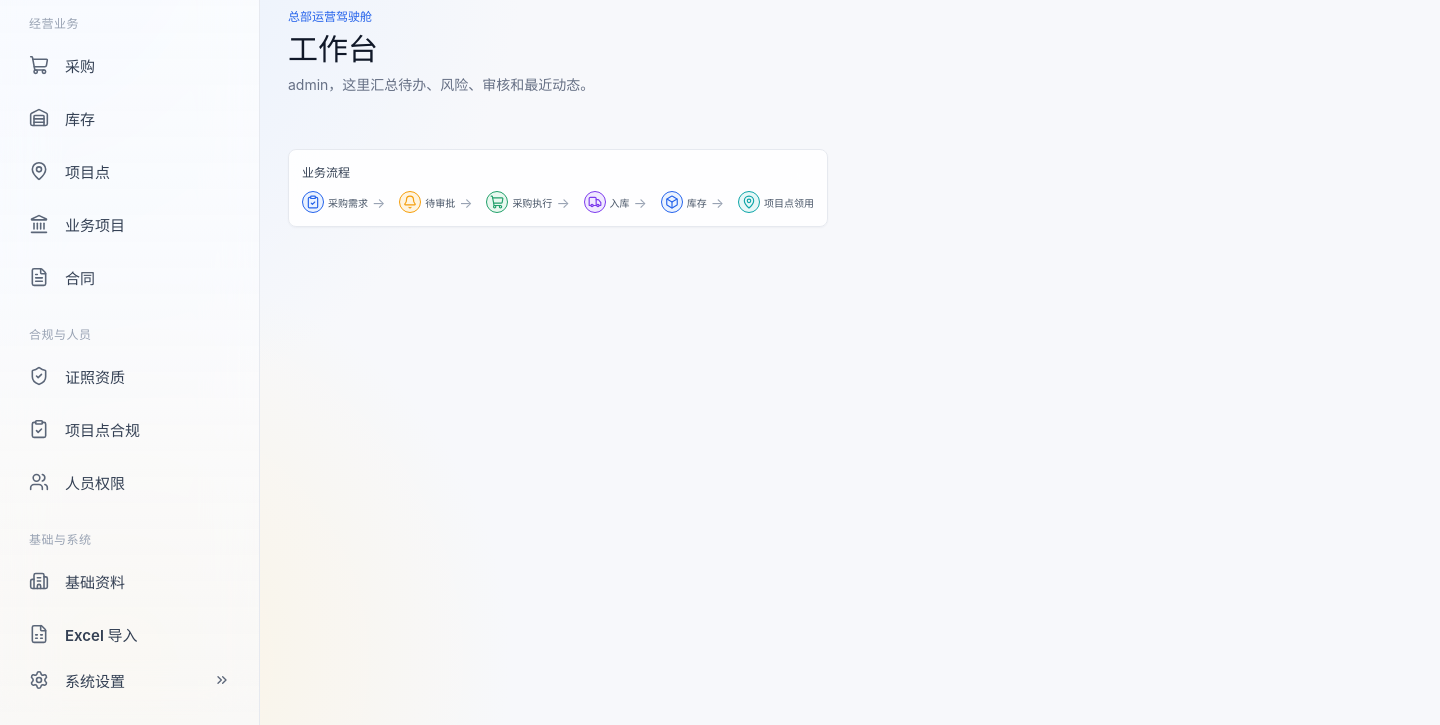
Company ERP app shell › renders the Excel import workspace in the app shell
(page scrolled)
Step 1. Click the button "Excel 导入" → (130, 634), box [12,611,247,657]
(page scrolled)
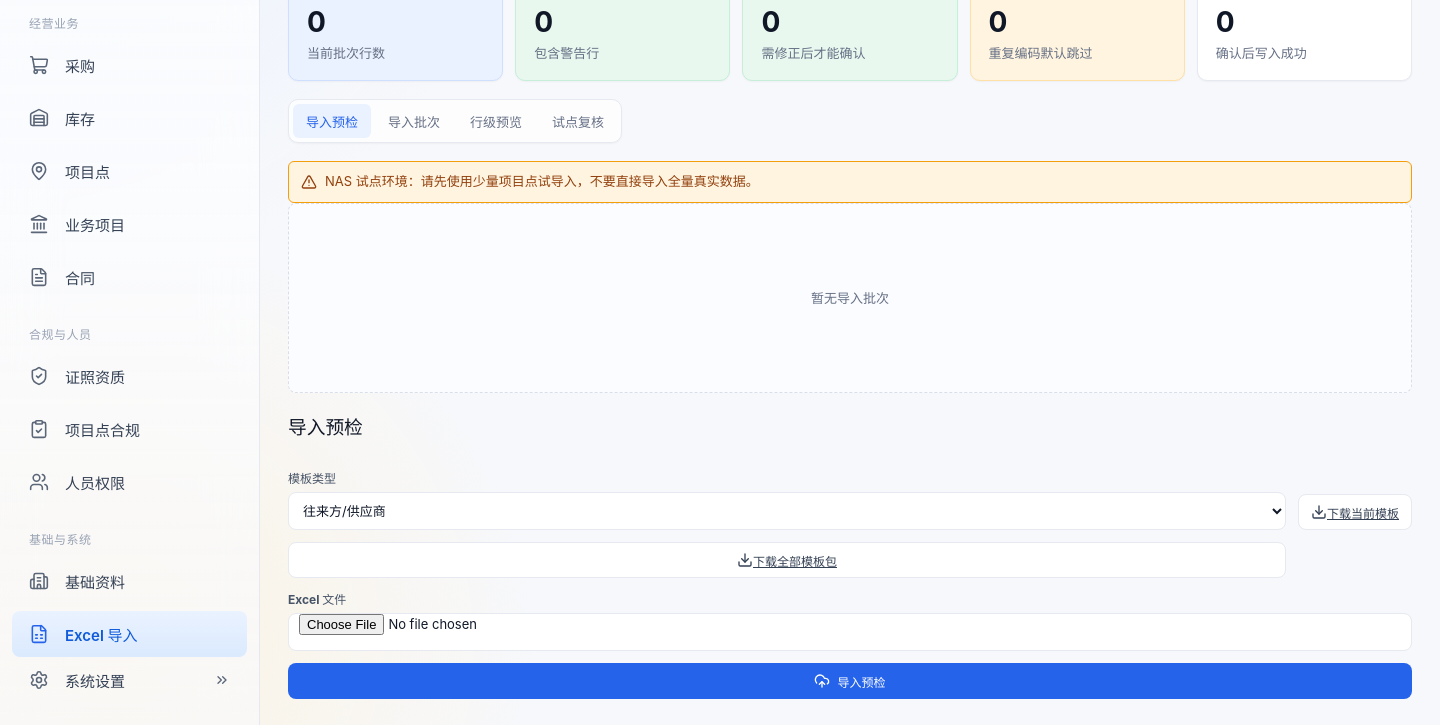
expect the text "导入批次" is shown: met, box [388,112,440,131]
expect the text "行级预览" is shown: met, box [470,112,522,131]
expect the button "导入预检" is shown: met, box [288,663,1412,699]
